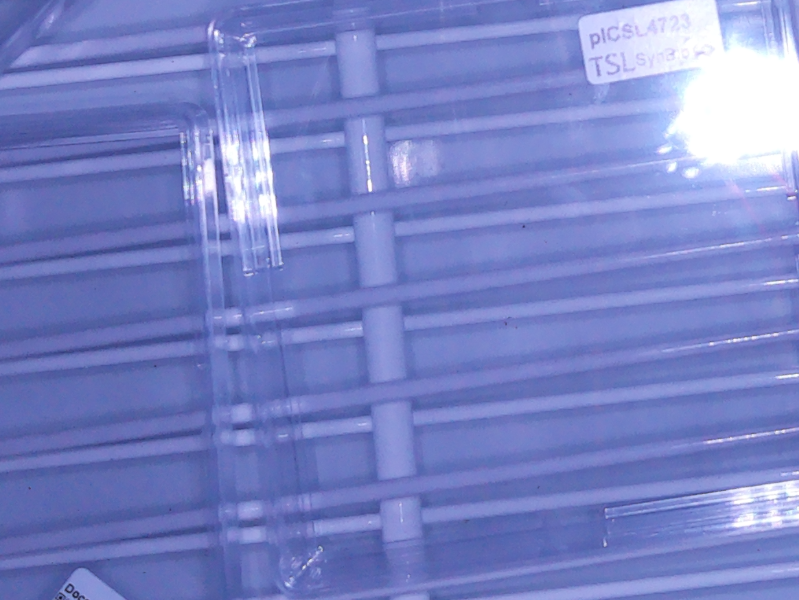plate: (206, 1, 799, 594), (1, 99, 239, 600)
